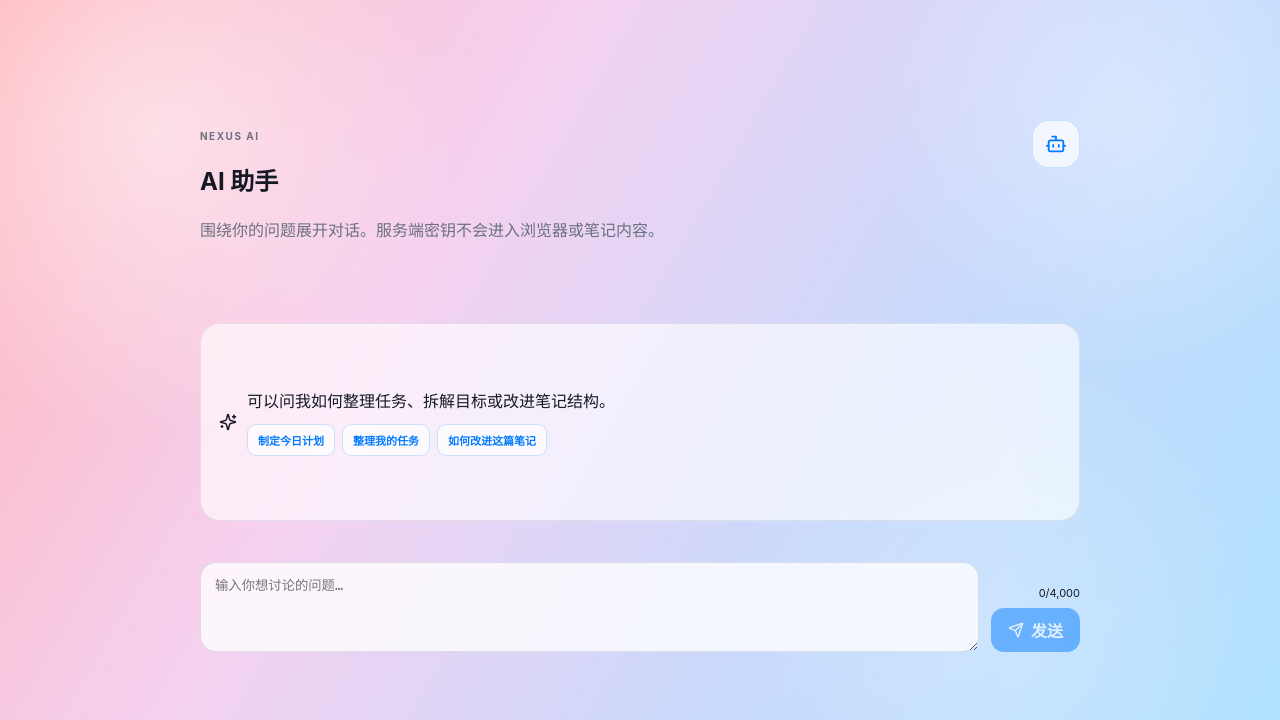
it: AIChatPanel › locks the default chat surface after the server reports that AI is disabled
Type "你好" into the text box named "输入问题" at coordinates (590, 607), box [200,562,979,652]
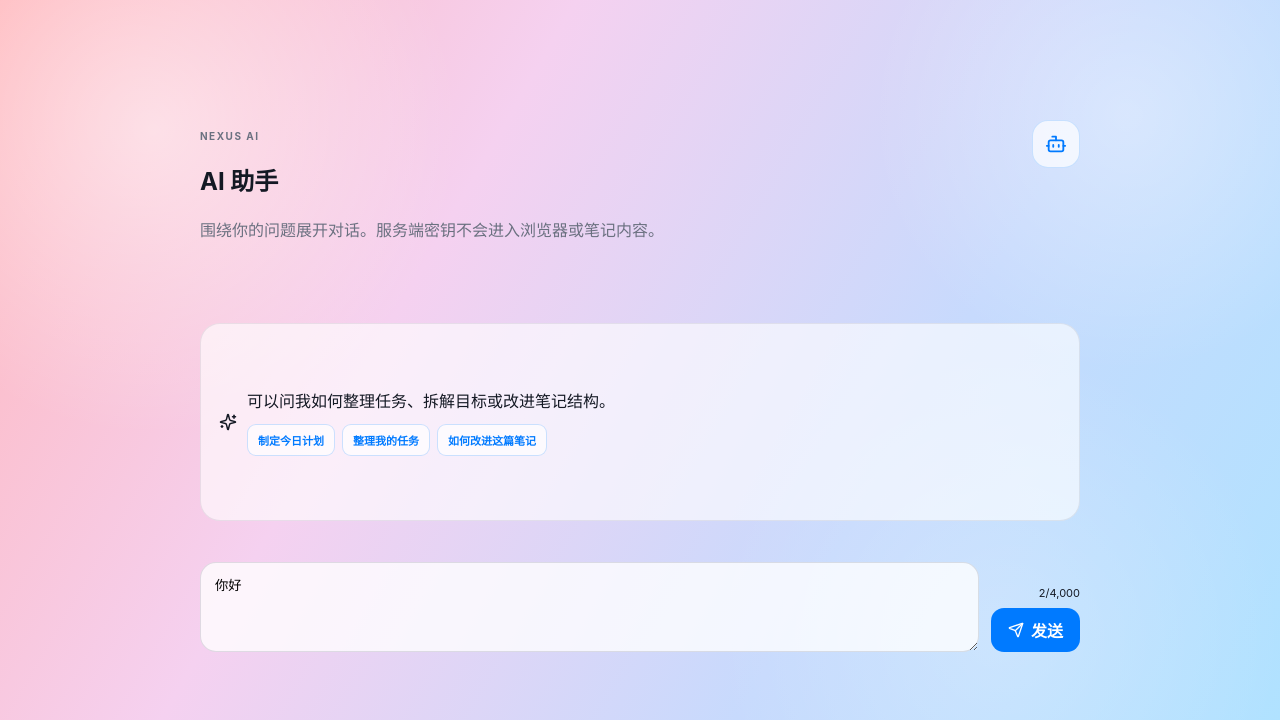
Click the button "发送" at coordinates (1036, 630), box [991,608,1080,652]
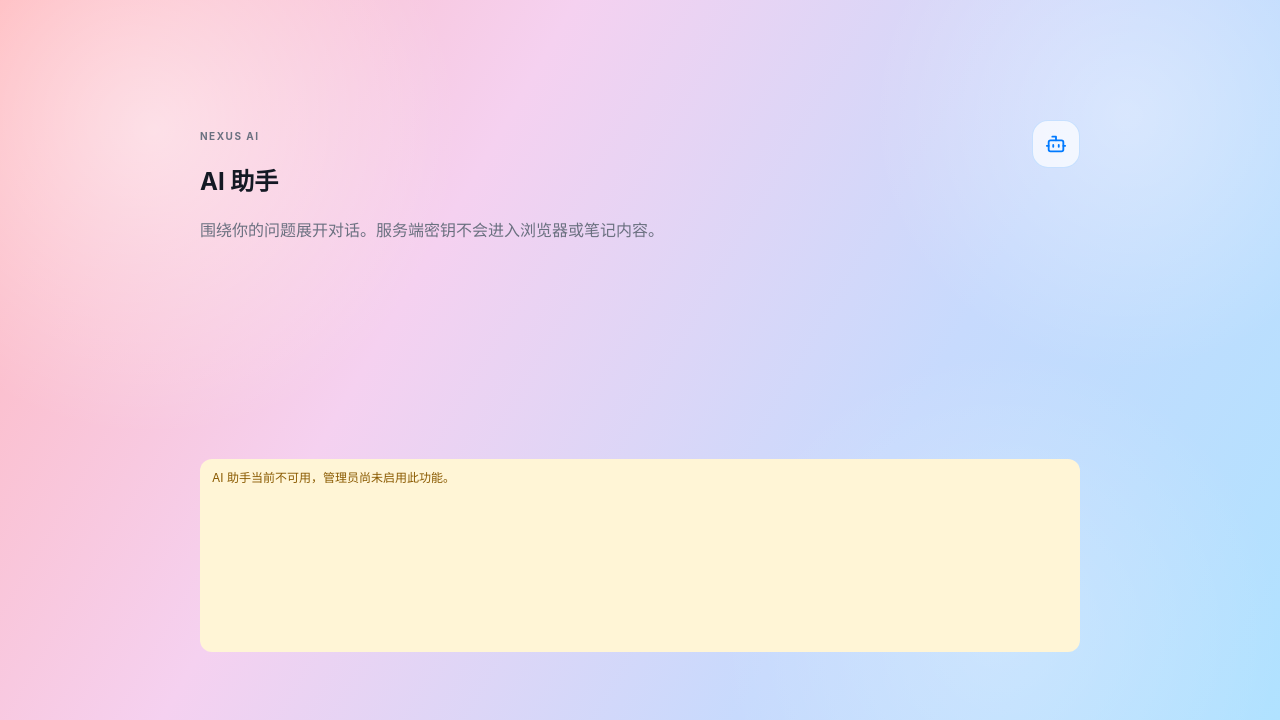
Expected: the text "AI 助手当前不可用" is shown, [212,470,455,485]
Expected: the text box labelled "输入问题" is gone
Expected: the button "发送" is gone
